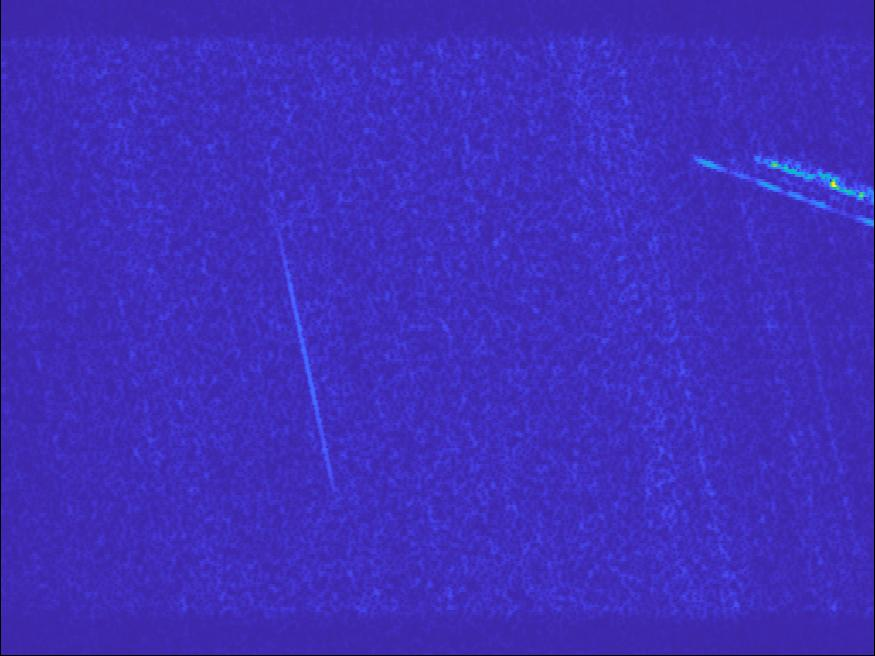Interference: (505, 341, 733, 512), (779, 282, 875, 337), (240, 142, 337, 186)
